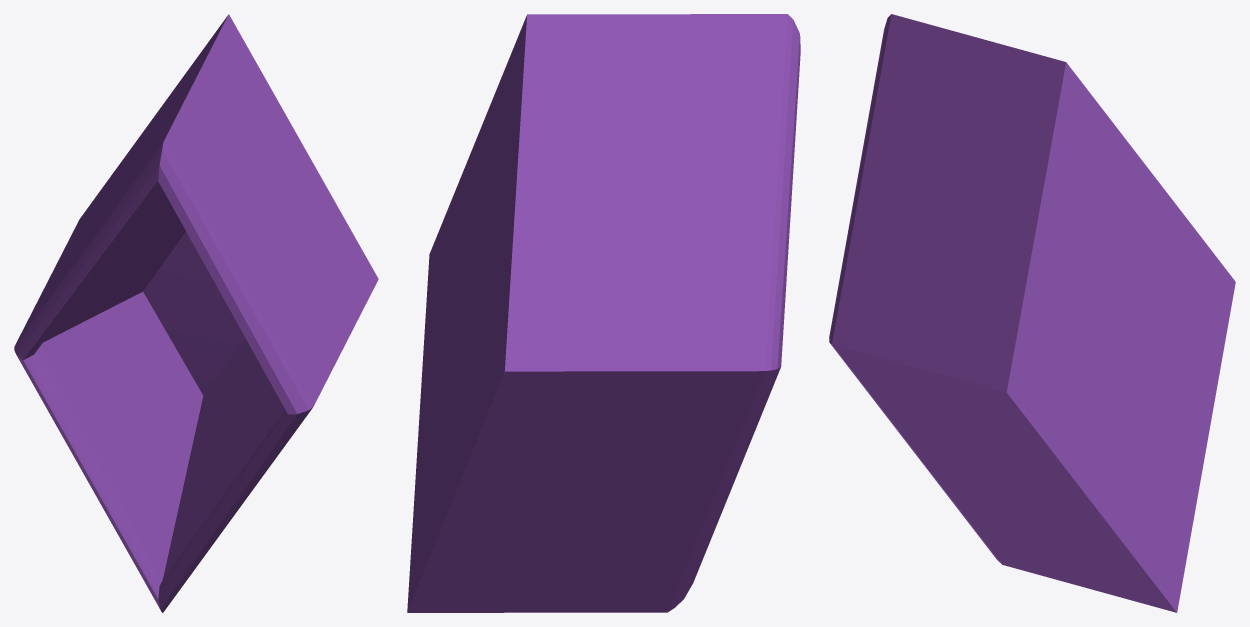
The model's file is TL3_8shapes_Kite_Classic_Metal.001 3.glb.
3 renders of one model, left to right at view 1: azimuth 30°, elevation 25°; view 2: azimuth 150°, elevation 25°; view 3: azimuth 270°, elevation 25°, orthographic. The views are drawn at different scales.
Parts seen in each view (by area): view 1: TL3_8shapes_Kite_Classic_Metal.001; view 2: TL3_8shapes_Kite_Classic_Metal.001; view 3: TL3_8shapes_Kite_Classic_Metal.001.
Boxes of the visible parts, left/top/right/bottom form: TL3_8shapes_Kite_Classic_Metal.001: left=14, top=14, right=378, bottom=612; TL3_8shapes_Kite_Classic_Metal.001: left=407, top=14, right=800, bottom=612; TL3_8shapes_Kite_Classic_Metal.001: left=829, top=14, right=1235, bottom=612.
Size of the model in its own units: 0.487 by 0.7513 by 0.5031.
